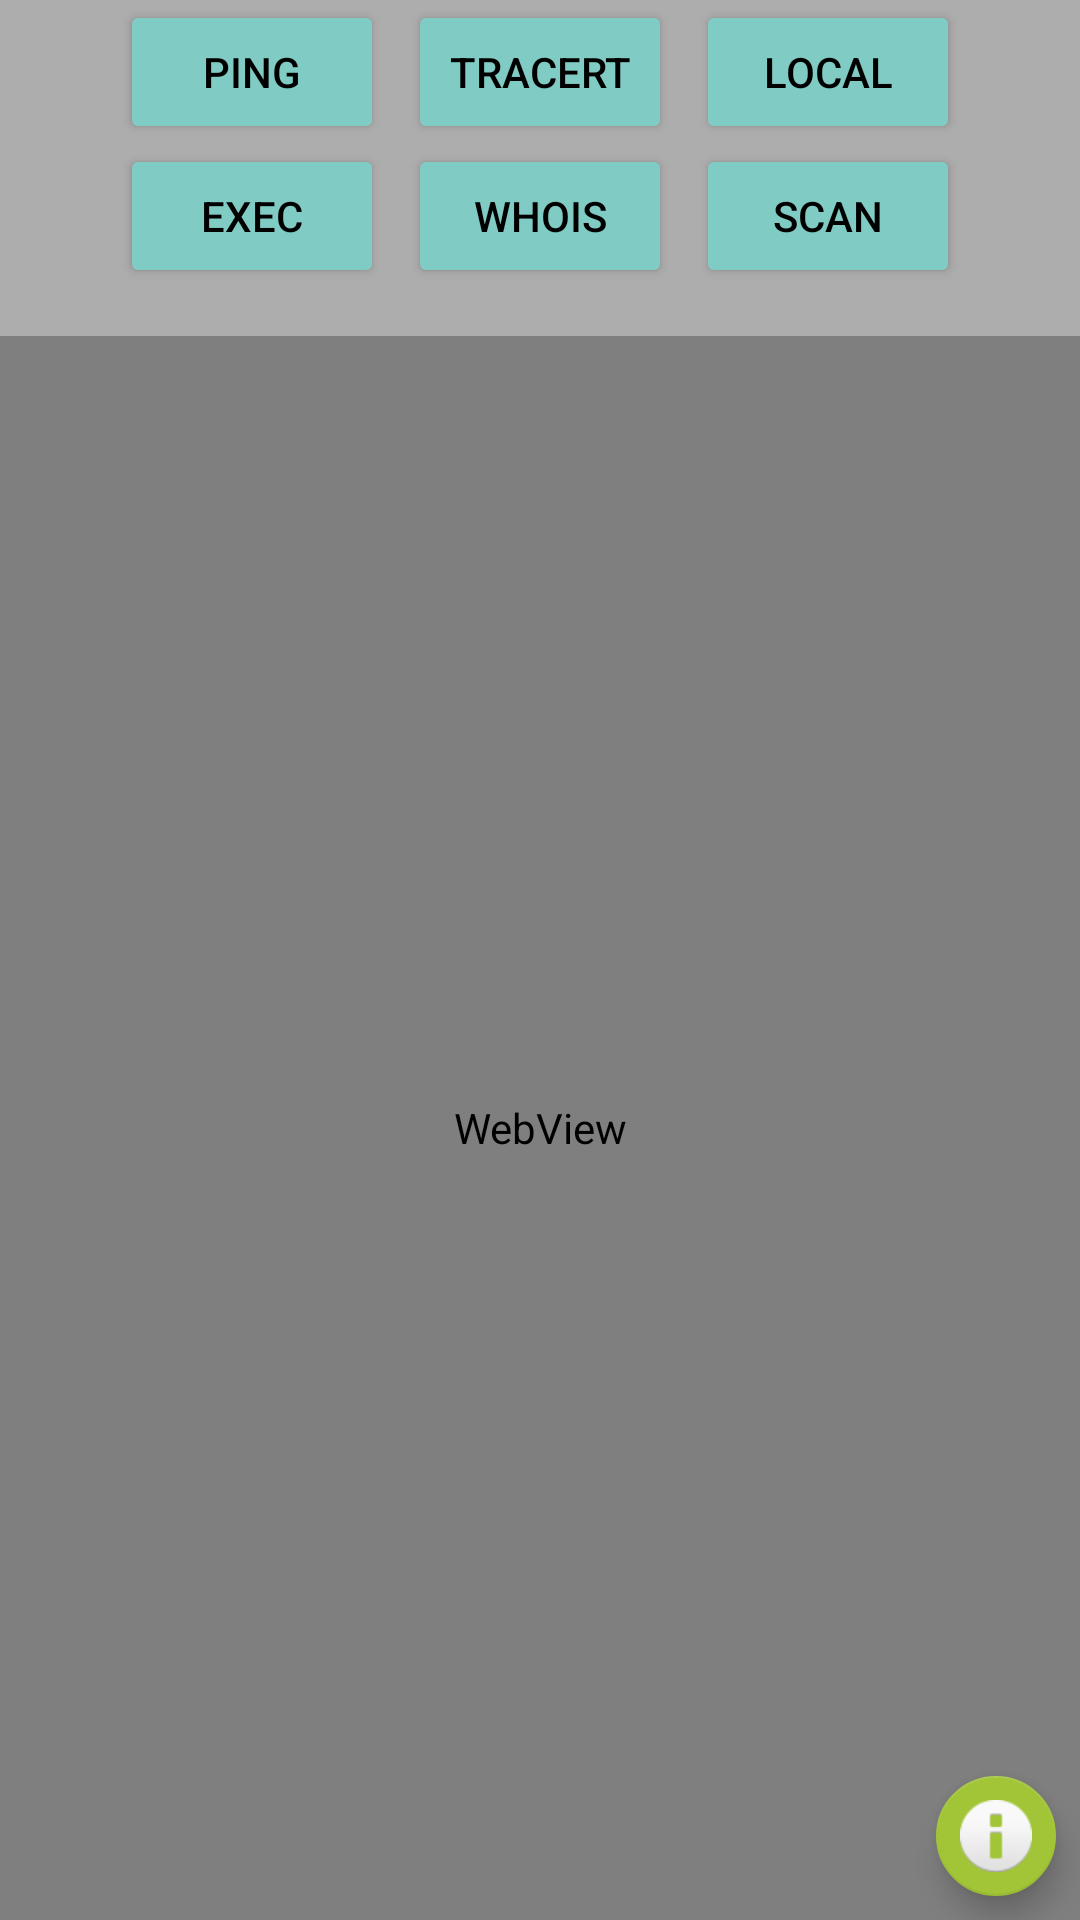

Where icons sit on this 1080×1920 app screen, as (x1, y1, x2, y2):
info: (936, 1776, 1056, 1896)
